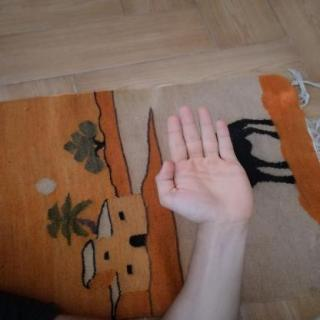SEEN: (144, 96, 264, 232)
